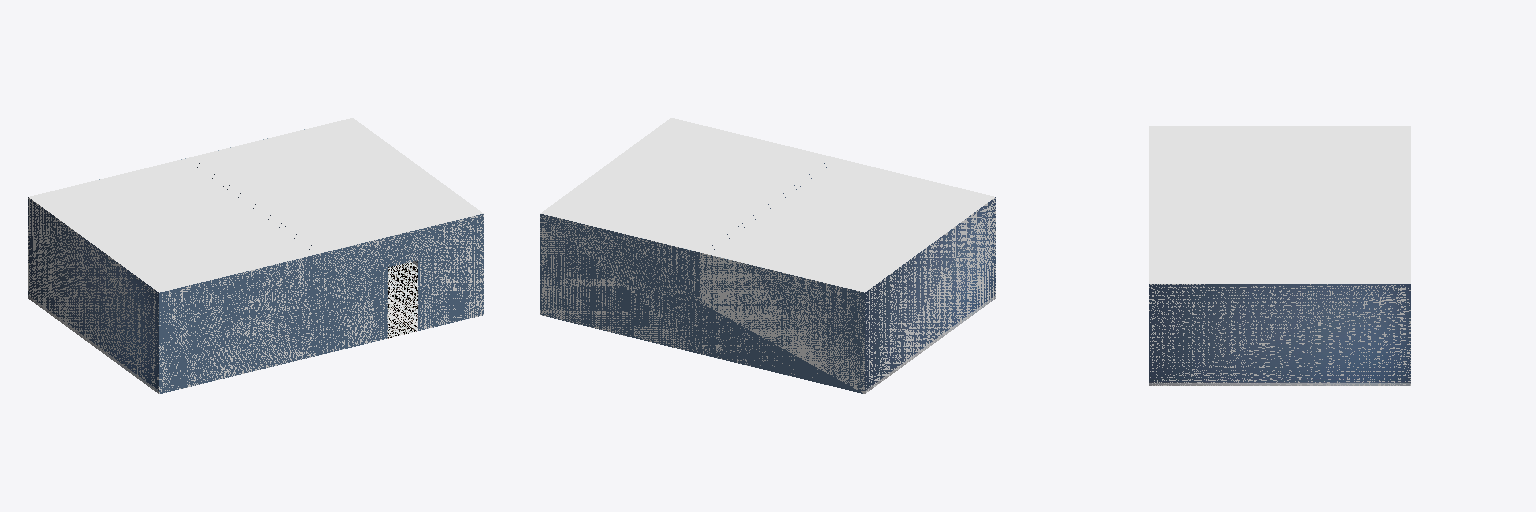
3 renders of one model, left to right at view 1: azimuth 30°, elevation 25°; view 2: azimuth 150°, elevation 25°; view 3: azimuth 270°, elevation 25°, orthographic.
Parts seen in each view (by area): view 1: Mesh1 Model; view 2: Mesh1 Model; view 3: Mesh1 Model.
Part boxes in pixels (x1,y1,x2,y2): Mesh1 Model: (28, 118, 483, 393); Mesh1 Model: (540, 118, 995, 393); Mesh1 Model: (1149, 126, 1410, 385).
Bounding box in the file's own units: 10.02 × 3 × 7.01.
8 materials, 4 textured.